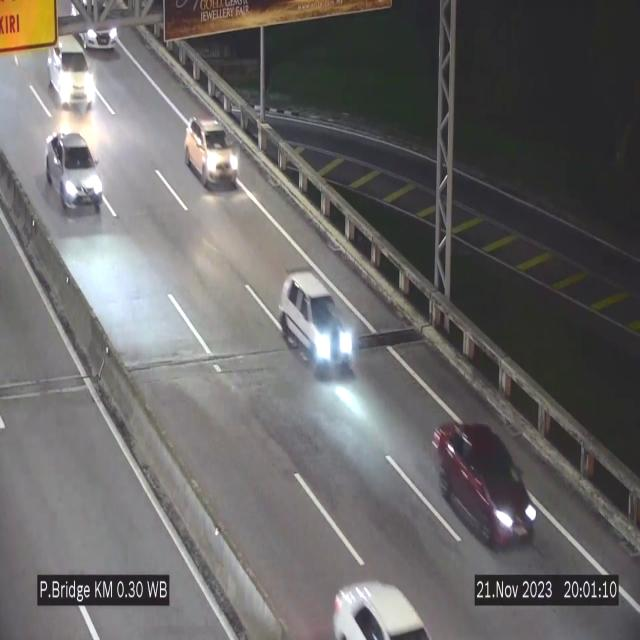Car: (433, 420, 537, 548), (328, 572, 441, 640), (278, 273, 356, 371), (46, 134, 102, 214), (45, 34, 95, 112), (184, 117, 238, 188), (78, 12, 130, 56)
